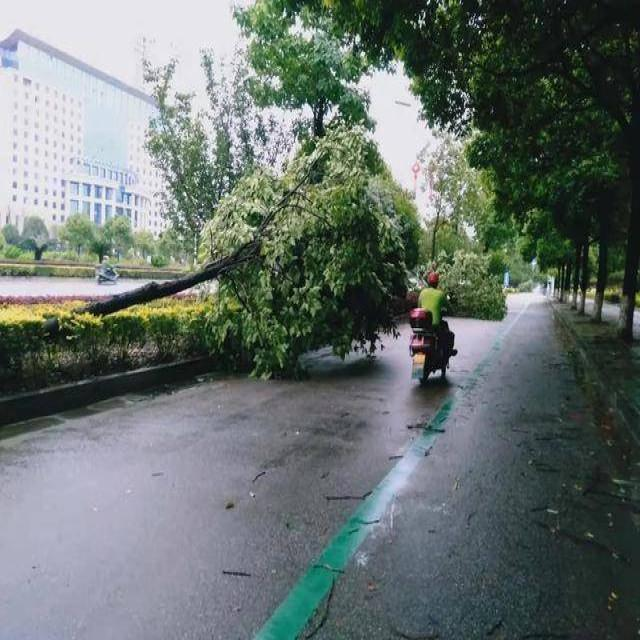fallen_object: (44, 121, 416, 386)
